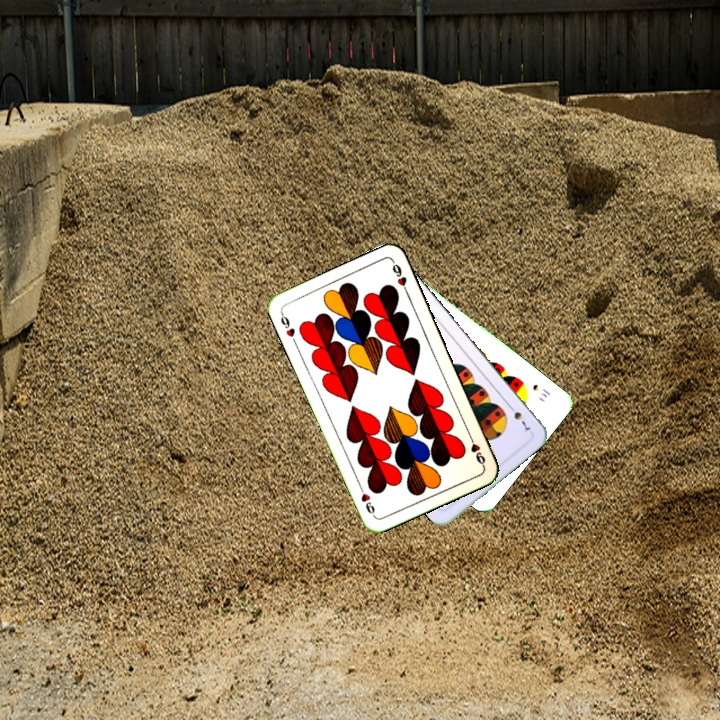H9: (465, 430, 488, 469), (276, 308, 297, 340)
S10: (528, 380, 553, 401)
S7: (504, 400, 533, 435)
